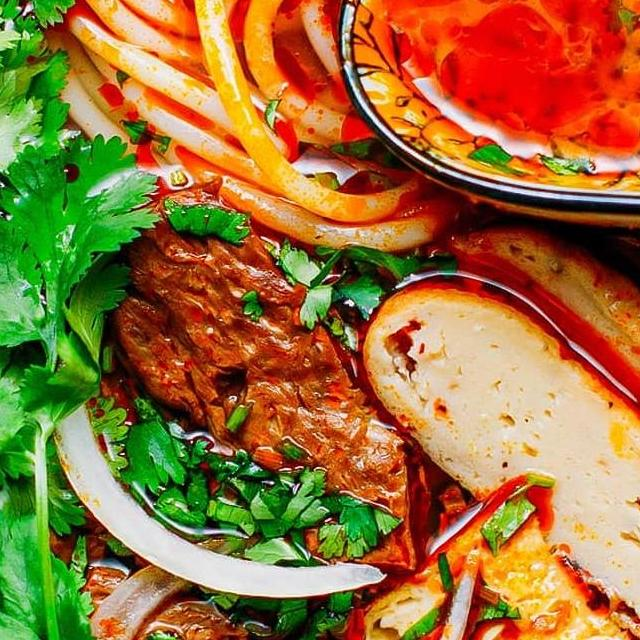bun: (12, 0, 600, 266)
bun bo: (0, 0, 640, 640)
dau hu: (318, 476, 640, 640)
thit bo: (67, 162, 453, 589), (48, 548, 463, 640)
